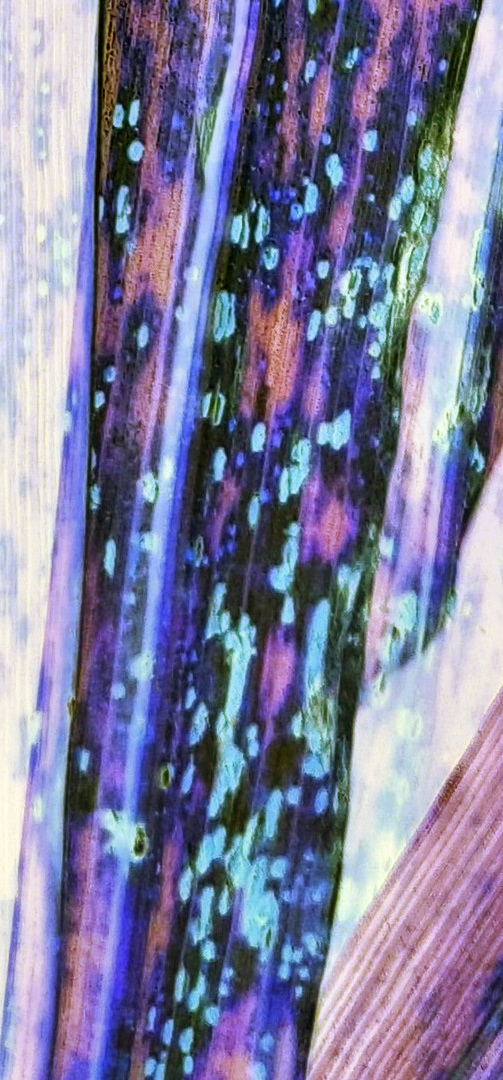Leaf Rust: (22, 33, 450, 1078)
